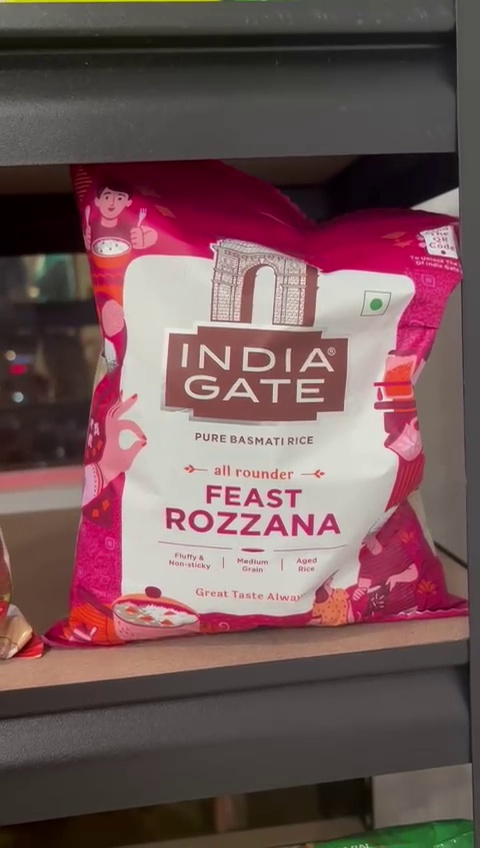India Gate Feast Rozzana: (77, 176, 463, 620)
